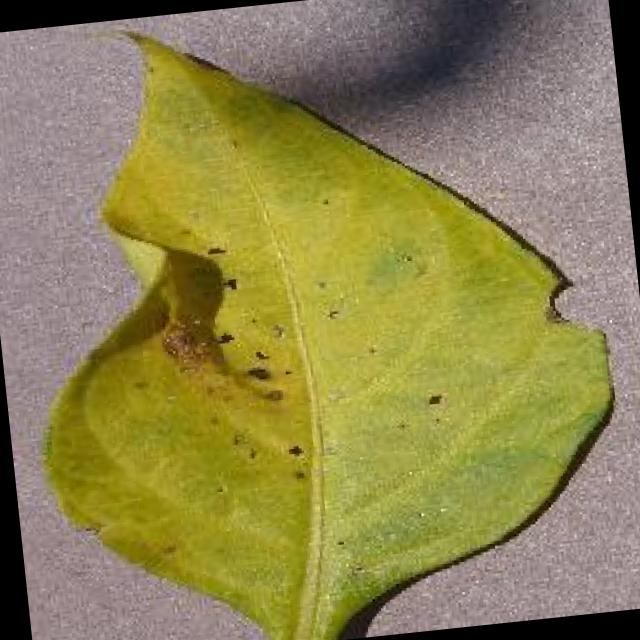Chilli_Bacterial_Spot: (0, 0, 639, 640), (140, 213, 458, 500), (144, 230, 316, 499), (144, 242, 248, 382), (154, 310, 230, 379), (154, 318, 201, 364), (415, 382, 453, 418), (208, 324, 238, 352), (242, 360, 274, 386), (420, 387, 448, 412), (214, 271, 242, 296), (280, 437, 307, 462), (318, 300, 343, 326), (202, 239, 230, 262)
